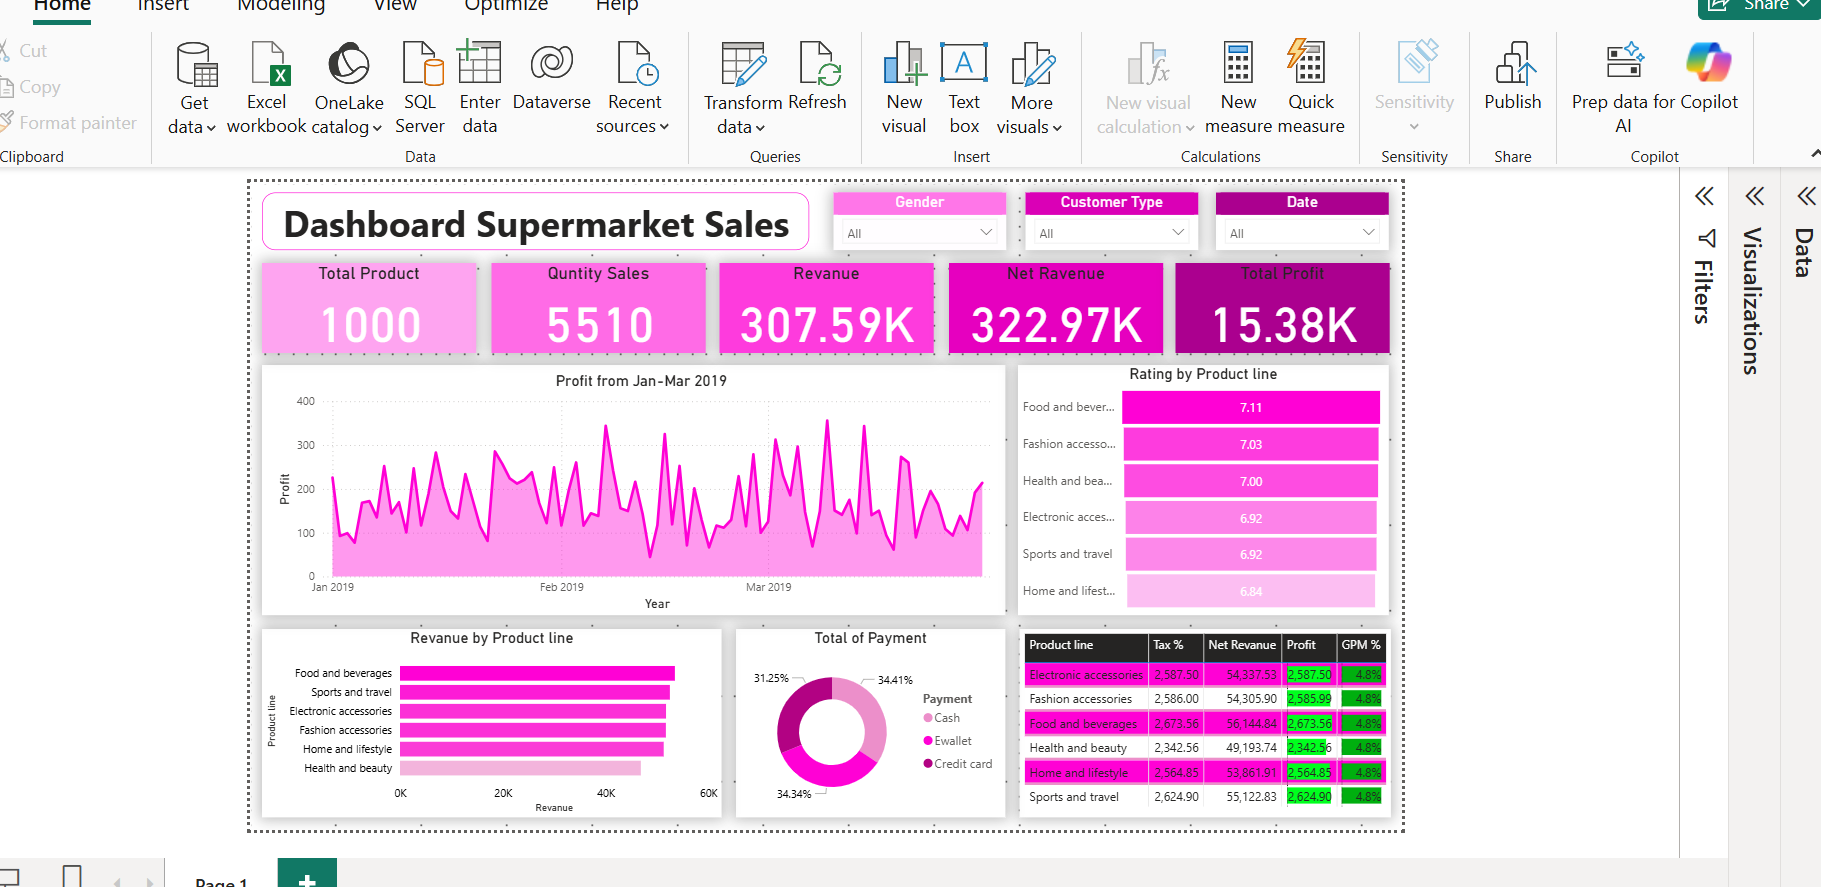

Layout of this report page (visuals, bound fields, positions):
{"tool":"powerbi","page":{"name":"Page 1","canvas":[1280,720],"ordinal":0},"visuals":[{"type":"tableEx","fields":{"Values":["supermarket_sales.Product line","supermarket_sales.Tax %","supermarket_sales.Net Revanue","supermarket_sales.Profit","supermarket_sales.GPM %"]},"box":[854.4,497.3,412.8,209.3],"z":0},{"type":"donutChart","title":"Total of Payment","fields":{"Y":["Sum(supermarket_sales.Quantity)"],"Category":["supermarket_sales.Payment"]},"box":[539.5,497.3,299.5,209.3],"z":1},{"type":"barChart","fields":{"Category":["supermarket_sales.Product line"],"Y":["supermarket_sales.Revanue"]},"box":[13.4,497.3,510.7,209.3],"z":2},{"type":"areaChart","title":"Profit from Jan-Mar 2019","fields":{"Y":["supermarket_sales.Profit"],"Category":["supermarket_sales.Date.Variation.Date Hierarchy.Year","supermarket_sales.Date.Variation.Date Hierarchy.Month","supermarket_sales.Date.Variation.Date Hierarchy.Day"]},"box":[14,204,826,278],"z":3},{"type":"funnel","title":"Rating by Product line","fields":{"Category":["supermarket_sales.Product line"],"Y":["Avg(supermarket_sales.Rating)"]},"box":[854,204,412,278],"z":4},{"type":"card","title":"Total Product","fields":{"Values":["CountNonNull(supermarket_sales.Product line)"]},"box":[14,90,238,100],"z":5},{"type":"card","title":"Quntity Sales","fields":{"Values":["Sum(supermarket_sales.Quantity)"]},"box":[268,90,238,100],"z":6},{"type":"card","title":"Revanue","fields":{"Values":["supermarket_sales.Revanue"]},"box":[522,90,238,100],"z":7},{"type":"card","title":"Net Ravenue","fields":{"Values":["supermarket_sales.Net Revanue"]},"box":[776,90,238,100],"z":8},{"type":"card","title":"Total Profit","fields":{"Values":["supermarket_sales.Profit"]},"box":[1028,90,238,100],"z":9},{"type":"slicer","title":"Date","fields":{"Values":["supermarket_sales.Date.Variation.Date Hierarchy.Month","supermarket_sales.Date.Variation.Date Hierarchy.Day"]},"box":[1074,12,192,64],"z":10},{"type":"slicer","title":"Customer Type","fields":{"Values":["supermarket_sales.Customer type"]},"box":[862,12,192,64],"z":11},{"type":"slicer","title":"Gender","fields":{"Values":["supermarket_sales.Gender"]},"box":[648,12,192,64],"z":12},{"type":"textbox","title":"Dashboard Supermarket Sales","box":[14,12,608,64],"z":13}]}

Visuals, with their boxes on the page's 1280x720 design canvas (x1, y1, x2, y2). These are canvas units, not pixel positions in the 1821x887 screenshot, which may show the page scaled, cropped or inside an application window:
tableEx - supermarket_sales.Product line x supermarket_sales.Tax %: (x1=854, y1=497, x2=1267, y2=707)
"Total of Payment" donutChart: (x1=540, y1=497, x2=839, y2=707)
barChart - supermarket_sales.Product line x supermarket_sales.Revanue: (x1=13, y1=497, x2=524, y2=707)
"Profit from Jan-Mar 2019" areaChart: (x1=14, y1=204, x2=840, y2=482)
"Rating by Product line" funnel: (x1=854, y1=204, x2=1266, y2=482)
"Total Product" card: (x1=14, y1=90, x2=252, y2=190)
"Quntity Sales" card: (x1=268, y1=90, x2=506, y2=190)
"Revanue" card: (x1=522, y1=90, x2=760, y2=190)
"Net Ravenue" card: (x1=776, y1=90, x2=1014, y2=190)
"Total Profit" card: (x1=1028, y1=90, x2=1266, y2=190)
"Date" slicer: (x1=1074, y1=12, x2=1266, y2=76)
"Customer Type" slicer: (x1=862, y1=12, x2=1054, y2=76)
"Gender" slicer: (x1=648, y1=12, x2=840, y2=76)
"Dashboard Supermarket Sales" textbox: (x1=14, y1=12, x2=622, y2=76)
